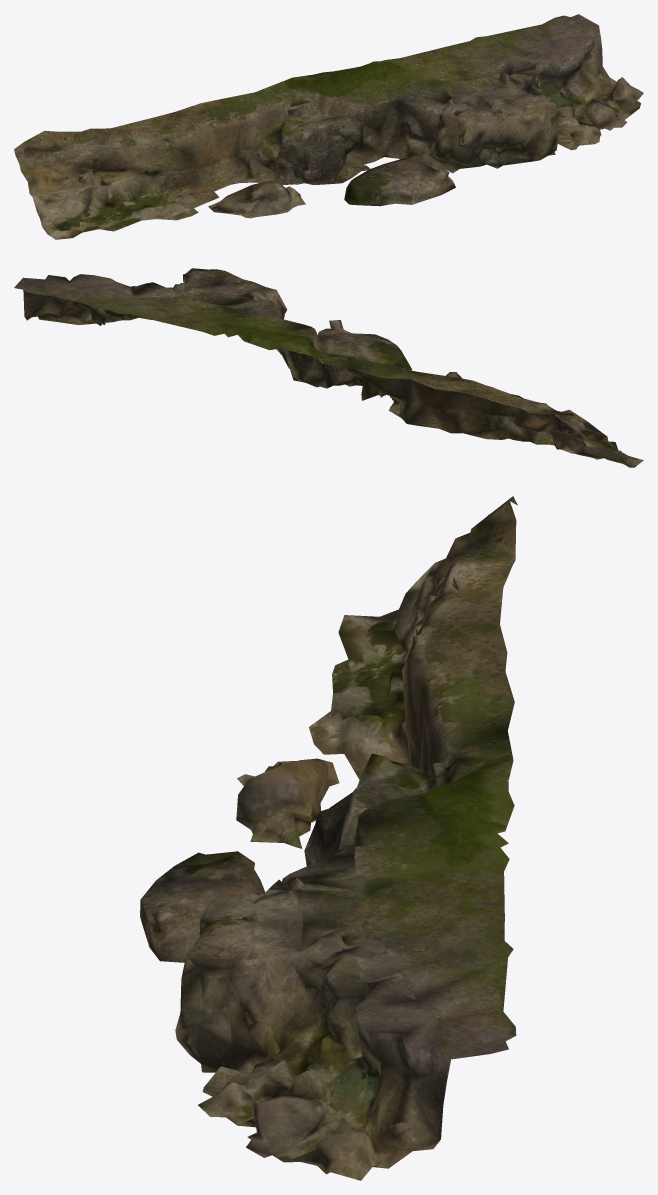
The model's file is cliff2.glb.
3 renders of one model, top to bottom at view 1: azimuth 30°, elevation 25°; view 2: azimuth 150°, elevation 25°; view 3: azimuth 270°, elevation 25°, orthographic. The views are drawn at different scales.
Parts seen in each view (by area): view 1: coastal_cliff_04; view 2: coastal_cliff_04; view 3: coastal_cliff_04.
Part boxes in pixels (x1=…): coastal_cliff_04: x1=14, y1=14, x2=643, y2=239; coastal_cliff_04: x1=14, y1=268, x2=643, y2=467; coastal_cliff_04: x1=140, y1=496, x2=517, y2=1180.
Bounding box in the file's own units: 86.77 × 10.86 × 24.13.
Materials: 1 (1 with a texture image).
